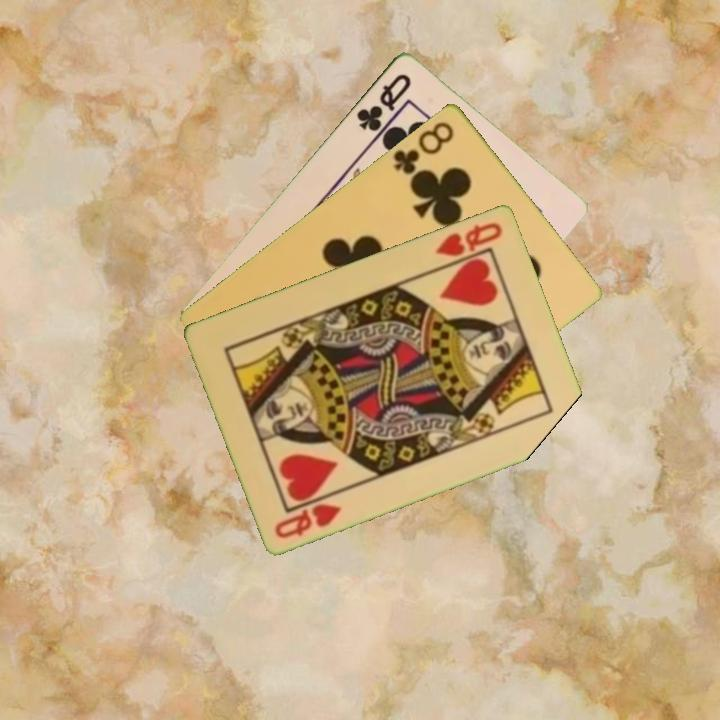8c: (390, 117, 457, 181)
Qc: (352, 69, 415, 134)
Qh: (432, 218, 506, 270), (271, 499, 345, 541)
